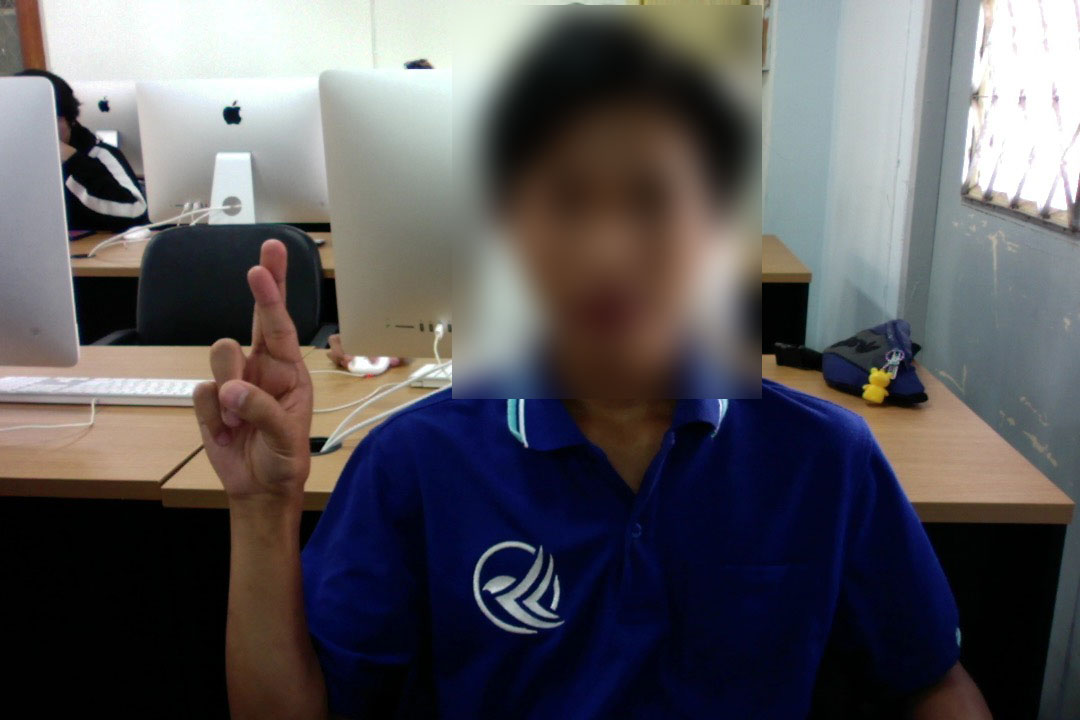rao: (187, 232, 325, 502)
